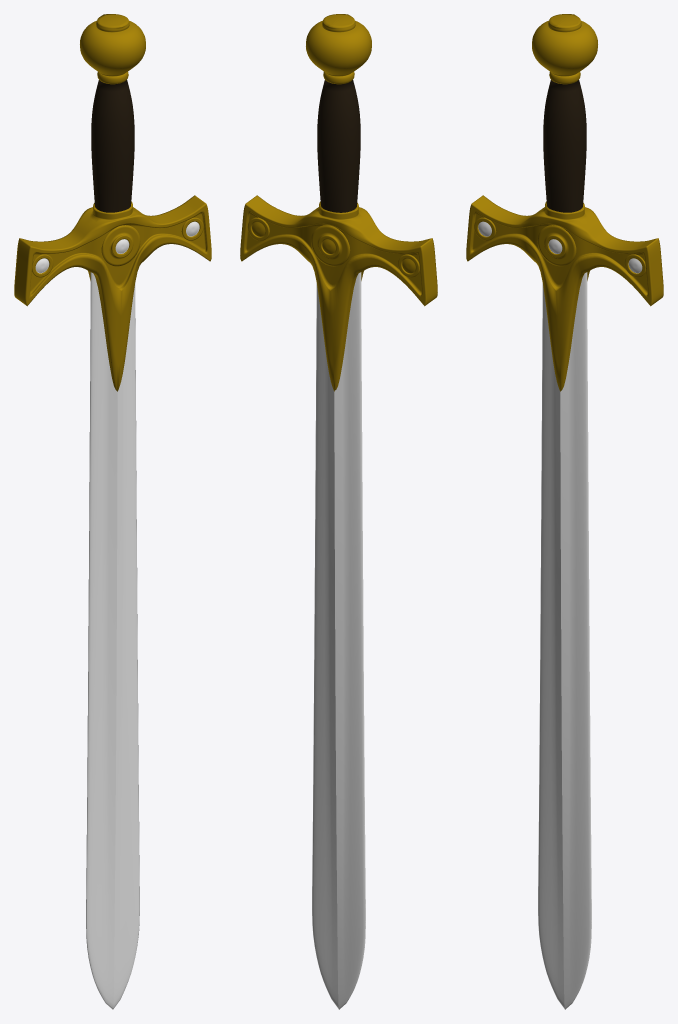
The model's file is espada 1.fbx.
3 views of the same model, side by side, from view 1: azimuth 30°, elevation 25°; view 2: azimuth 150°, elevation 25°; view 3: azimuth 330°, elevation 25° (orthographic).
Parts seen in each view (by area): view 1: Sword01; view 2: Sword01; view 3: Sword01.
Part boxes in pixels (box(x1,y1,x2,y2)): Sword01: box(14, 14, 211, 1009); Sword01: box(240, 14, 437, 1009); Sword01: box(466, 14, 663, 1009).
Size of the model in its own units: 171 by 869 by 52.61.
